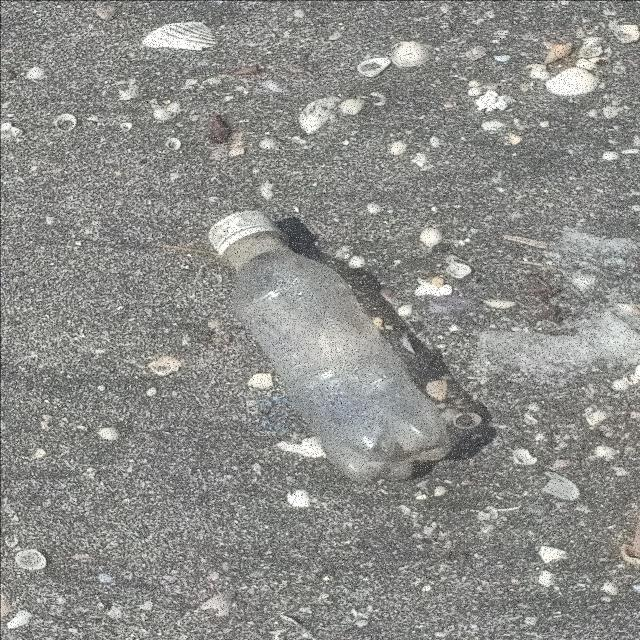plastic_waste: (209, 210, 454, 483)
